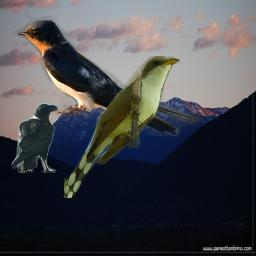Crow: (11, 103, 60, 173)
Cuckoo: (64, 56, 180, 198)
Swallow: (12, 14, 203, 136)
